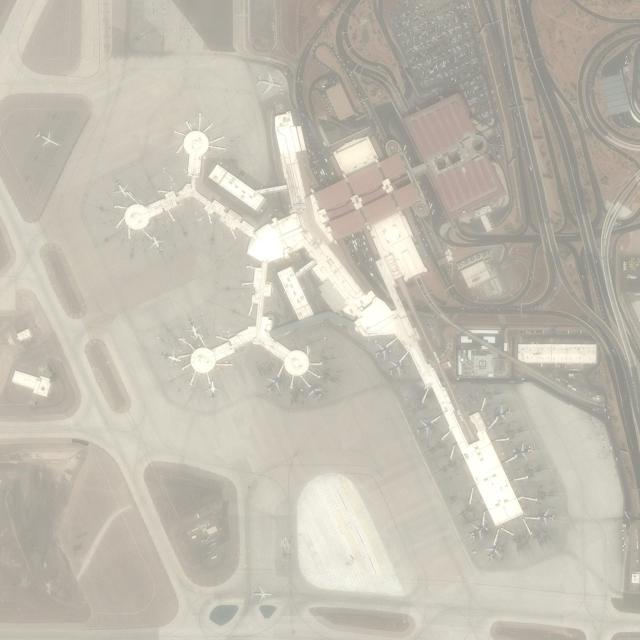aircraft: (256, 71, 282, 96), (34, 130, 61, 150), (483, 540, 502, 562), (203, 379, 221, 401), (466, 523, 488, 541), (536, 508, 556, 526), (185, 317, 201, 339), (372, 342, 391, 360), (252, 586, 272, 603), (492, 406, 513, 422), (513, 443, 534, 459), (113, 182, 131, 200), (415, 418, 433, 436), (308, 383, 324, 402), (264, 376, 282, 392), (148, 235, 164, 253), (162, 350, 182, 364), (386, 360, 404, 374)
